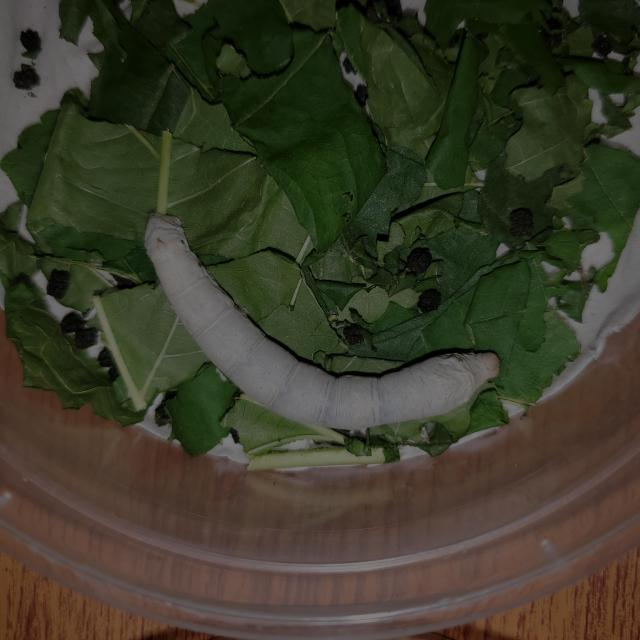Healthy: (128, 159, 524, 463)
